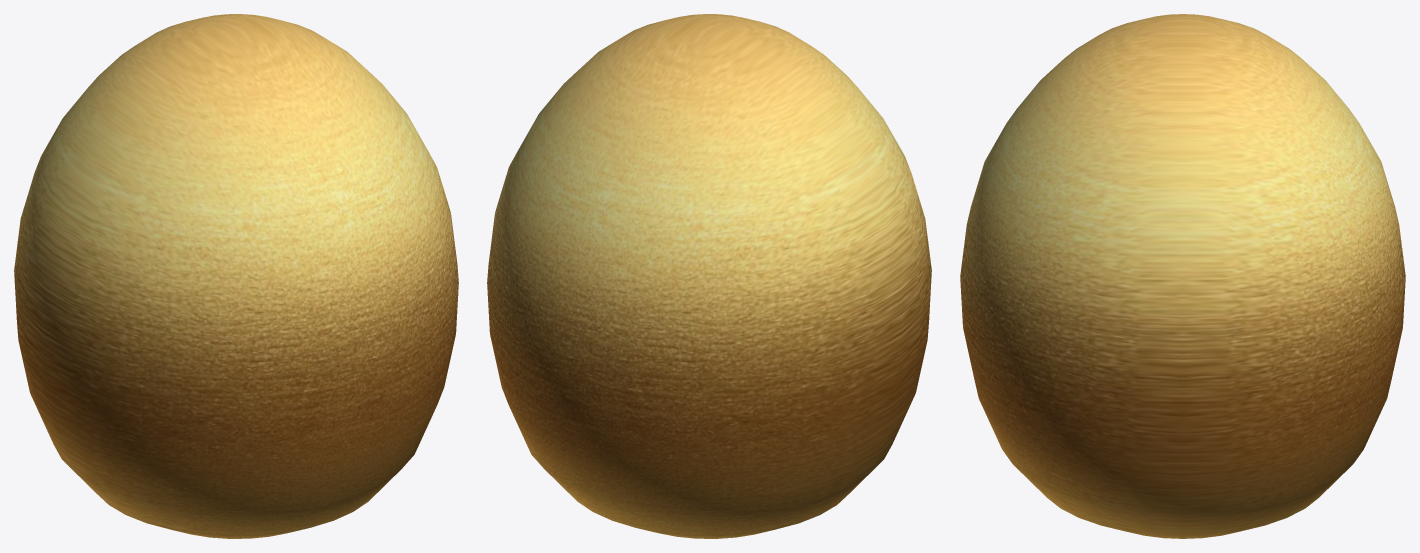
The model's file is GoldenEgg.fbx.
The picture shows the model from 3 angles, left to right: view 1: azimuth 30°, elevation 25°; view 2: azimuth 150°, elevation 25°; view 3: azimuth 270°, elevation 25°; orthographic projection.
Visible parts, largest first — view 1: Sphere; view 2: Sphere; view 3: Sphere.
Boxes of the visible parts, bbox=[...] form: Sphere: bbox=[14, 14, 458, 538]; Sphere: bbox=[487, 14, 931, 538]; Sphere: bbox=[960, 14, 1405, 538].
Bounding box in the file's own units: 201 × 241 × 201.
Materials: 1 (1 with a texture image).
